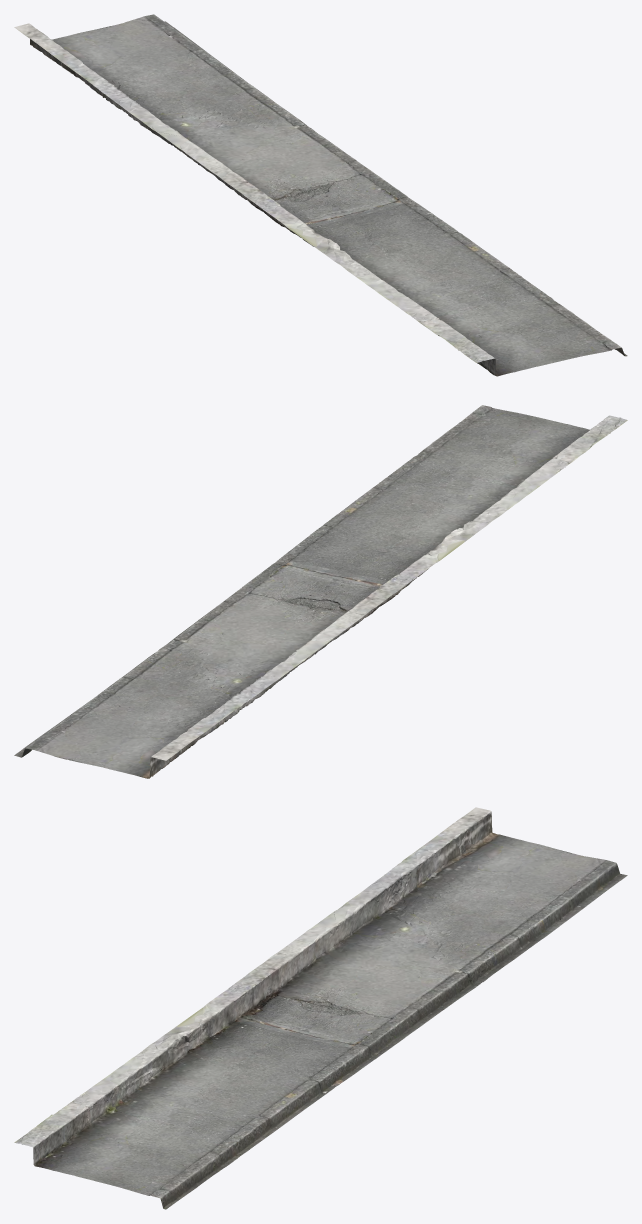
Rendered from sidewalk-8m.glb.
3 views of the same model, one above another, from view 1: azimuth 30°, elevation 25°; view 2: azimuth 150°, elevation 25°; view 3: azimuth 330°, elevation 25° (orthographic).
Parts seen in each view (by area): view 1: Object_2; view 2: Object_2; view 3: Object_2.
Boxes of the visible parts, x1,y1,x2,y2 form: Object_2: (14,14,627,376); Object_2: (14,405,627,778); Object_2: (14,807,627,1209).
Bounding box in the file's own units: 1.54 × 0.3558 × 8.12.
1 material, 1 textured.
